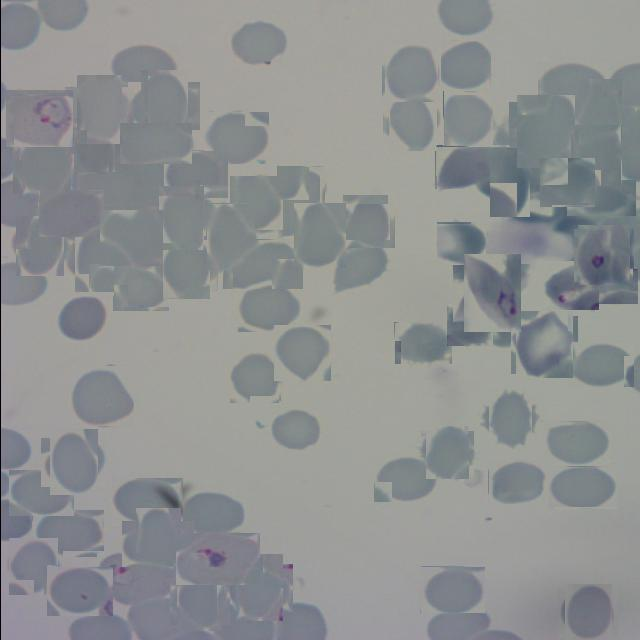leukocyte: (512, 98, 578, 164), (222, 239, 302, 289), (512, 314, 575, 376), (70, 365, 132, 427), (133, 76, 193, 136), (100, 208, 160, 268), (568, 84, 628, 144), (202, 111, 268, 164), (128, 514, 186, 574), (31, 509, 103, 557), (111, 478, 182, 526), (537, 62, 608, 110), (293, 203, 345, 268), (44, 434, 102, 492), (230, 559, 288, 617), (15, 138, 73, 196), (276, 166, 324, 236), (70, 81, 127, 139), (434, 146, 509, 190), (205, 203, 254, 270), (109, 43, 177, 91), (69, 231, 126, 288), (274, 325, 332, 381), (46, 567, 112, 616), (568, 127, 624, 184), (237, 283, 302, 332), (546, 464, 616, 509), (158, 240, 214, 296), (382, 44, 438, 100), (178, 491, 246, 537), (419, 566, 484, 614), (162, 150, 227, 198), (37, 190, 103, 237), (566, 342, 633, 388), (543, 422, 610, 468), (152, 191, 208, 246), (373, 454, 437, 502), (330, 240, 390, 290), (8, 470, 73, 516), (12, 219, 67, 273), (5, 540, 60, 594), (440, 93, 494, 148), (482, 155, 536, 210), (119, 123, 191, 164), (385, 94, 439, 148), (560, 586, 614, 640), (172, 574, 226, 628), (228, 20, 289, 67), (229, 176, 282, 230), (338, 198, 392, 250), (538, 157, 594, 207), (483, 393, 535, 445), (227, 350, 279, 402), (54, 295, 108, 343), (436, 41, 490, 89), (112, 265, 168, 311), (68, 122, 118, 172), (566, 180, 635, 216), (394, 322, 452, 364), (267, 407, 322, 451), (422, 428, 470, 478), (487, 459, 540, 504), (436, 222, 486, 266), (446, 304, 492, 346), (592, 268, 637, 304)
red blood cell: (457, 260, 525, 328), (574, 228, 632, 284), (542, 261, 598, 310)
schizont: (175, 533, 259, 585), (96, 553, 172, 605), (4, 89, 72, 147)
